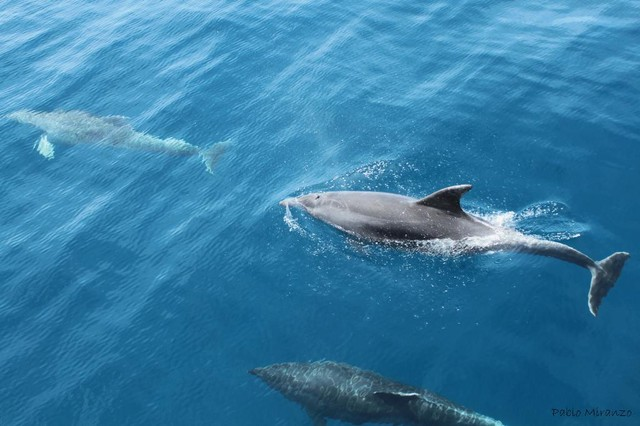whale: (274, 178, 633, 319), (3, 100, 238, 175)
